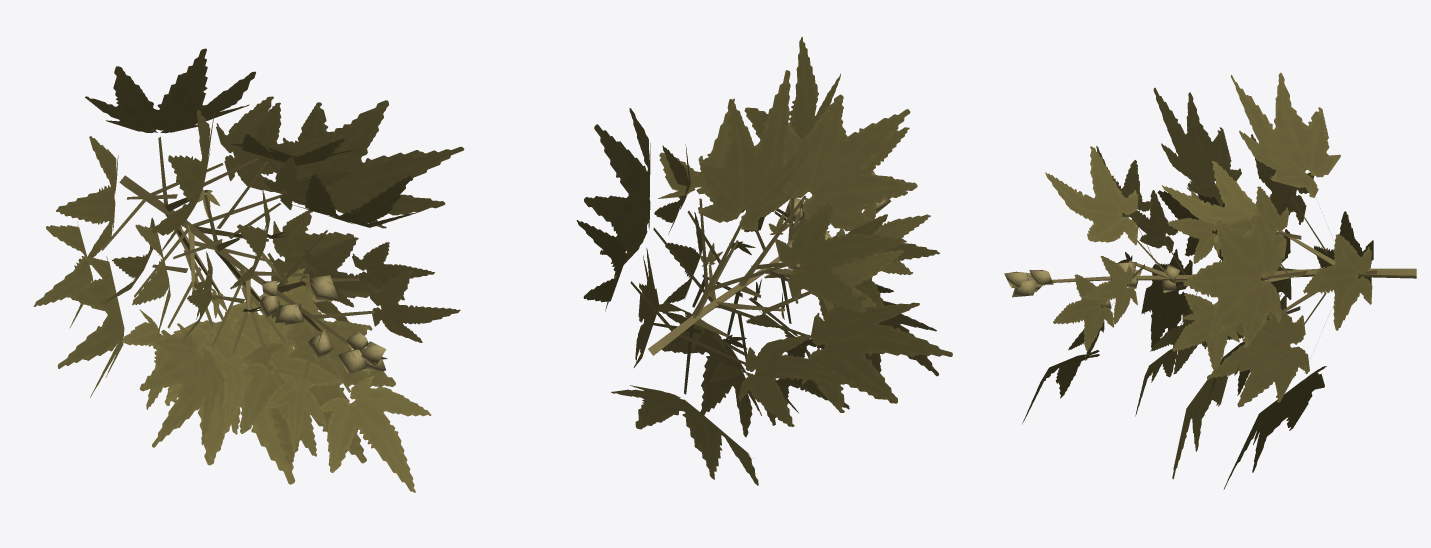
The model's file is p_male_hybrid_preflower_c2_cards.obj.
3 renders of one model, left to right at view 1: azimuth 30°, elevation 25°; view 2: azimuth 150°, elevation 25°; view 3: azimuth 270°, elevation 25°, orthographic. The views are drawn at different scales.
Size of the model in its own units: 1.51 by 1.65 by 1.4.
Materials: 1 (1 with a texture image).
